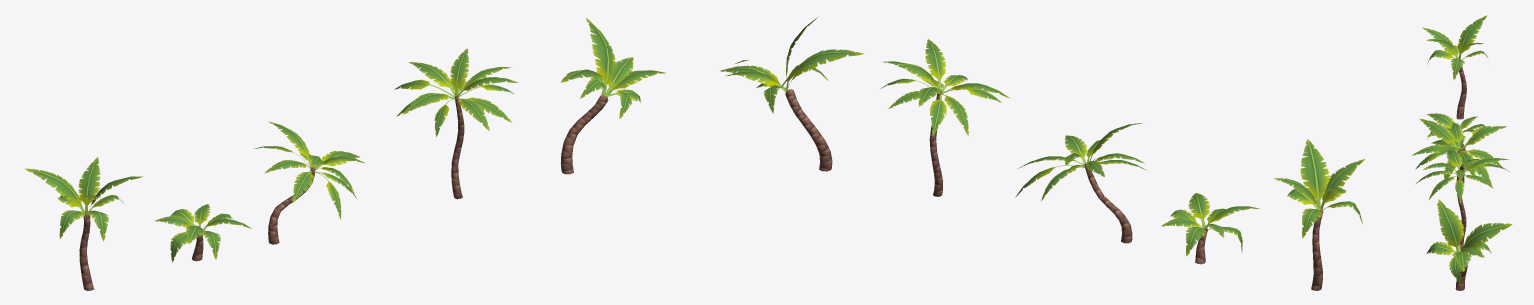
Rendered from PalmTrees.glb.
3 views of the same model, side by side, from view 1: azimuth 30°, elevation 25°; view 2: azimuth 150°, elevation 25°; view 3: azimuth 270°, elevation 25° (orthographic). The views are drawn at different scales.
Visible parts, largest first — view 1: PalmTree_3; view 2: PalmTree_3; view 3: PalmTree_3.
Part boxes in pixels (box(x1,y1,x2,y2)): PalmTree_3: box(24, 17, 665, 290); PalmTree_3: box(720, 17, 1364, 290); PalmTree_3: box(1412, 15, 1512, 290).
Size of the model in its own units: 25.91 by 5.28 by 5.24.
2 materials, 2 textured.
